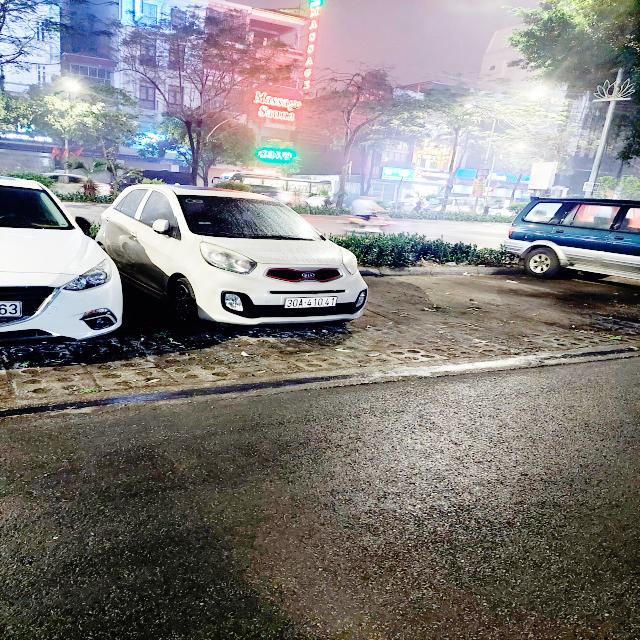license_plate: (282, 296, 341, 311)
